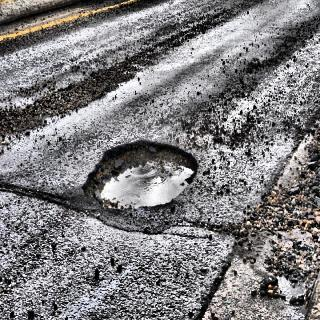crack: (92, 213, 213, 241), (0, 180, 74, 210), (198, 258, 231, 320), (264, 144, 296, 201)
pothole: (85, 137, 198, 212)
